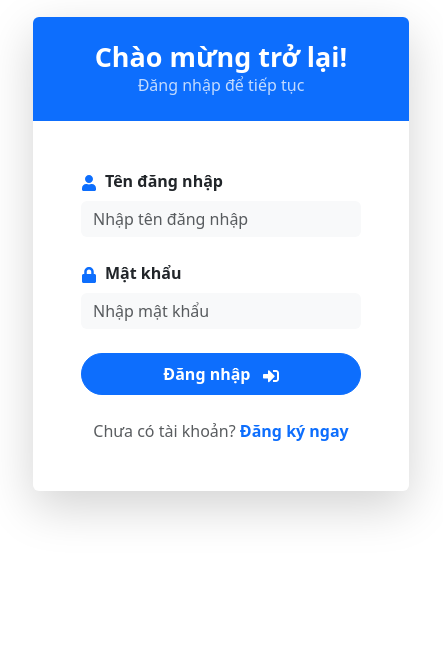
Test case: Login › shows error message when login fails
In the field with placeholder "Nhập tên đăng nhập": (221, 219) [81,201,361,237], type "patient01"
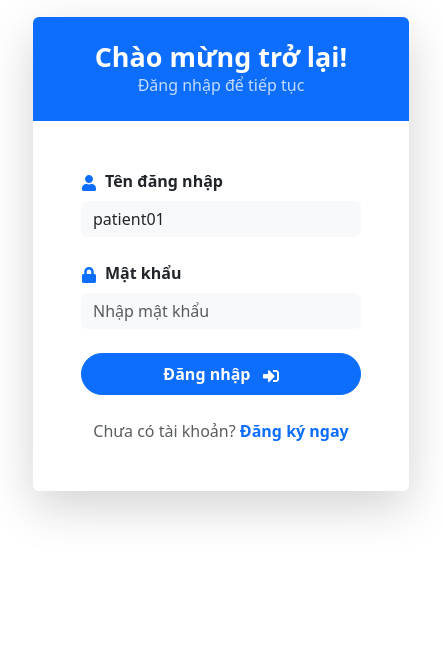
In the password field with placeholder "Nhập mật khẩu": (221, 311) [81,293,361,329], type "secret"
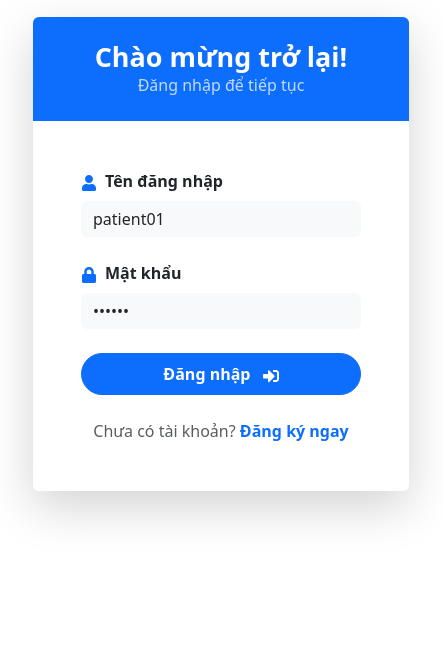
Click the button "Đăng nhập": click(221, 374) [81,353,361,395]
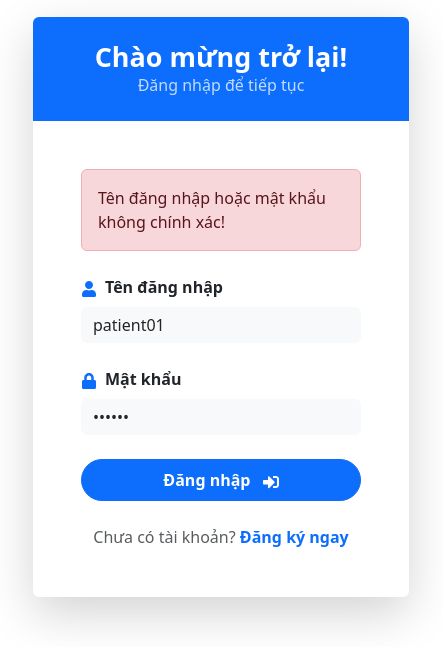
Expected: the text "Tên đăng nhập hoặc mật khẩu không chính xác!" is shown, [81,169,361,251]
